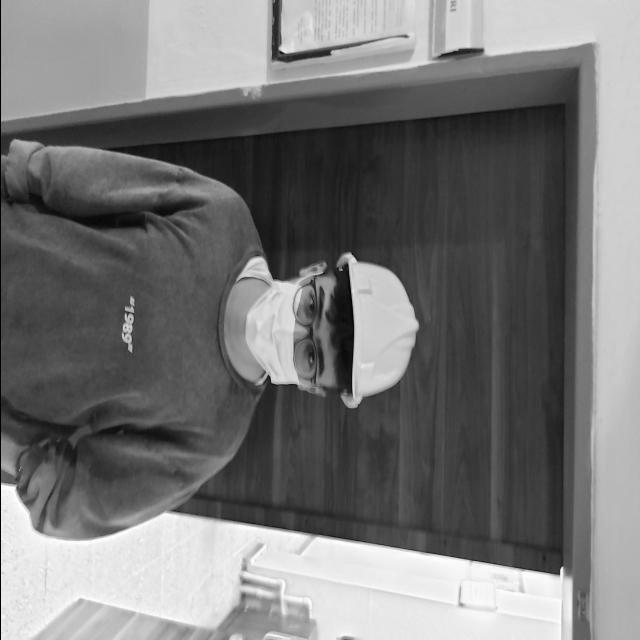construction helmet: (326, 252, 418, 410)
